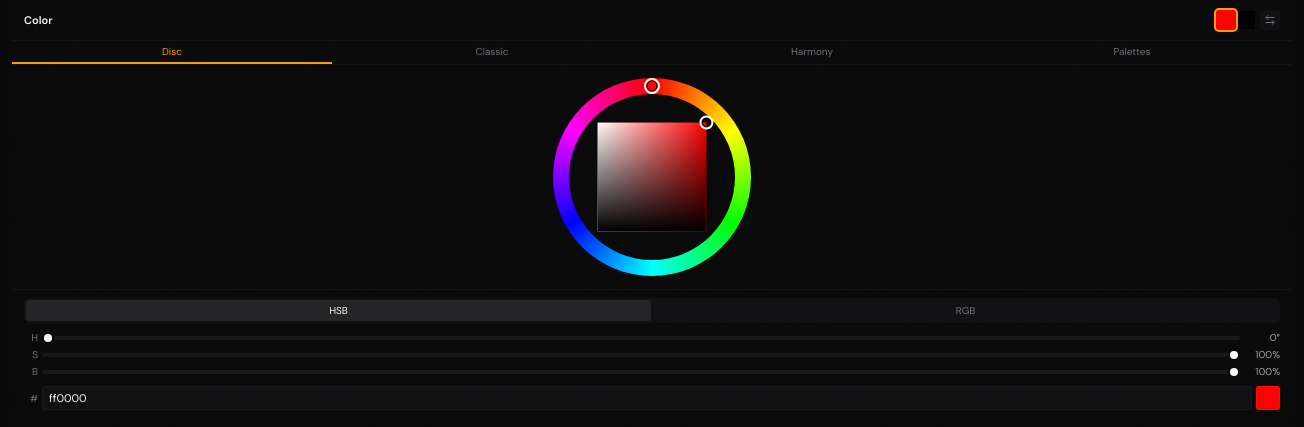
Test: ColorPanel › switches to classic tab
Click the button "Classic": [492, 52] box [332, 41, 652, 64]
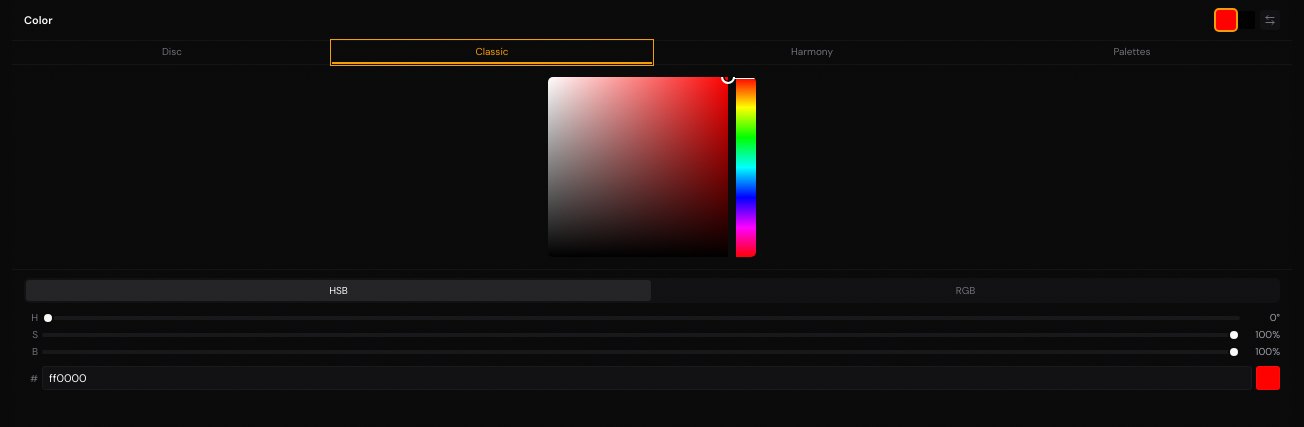
Check: the slider named "Classic color picker" is shown, box [548, 77, 756, 257]
